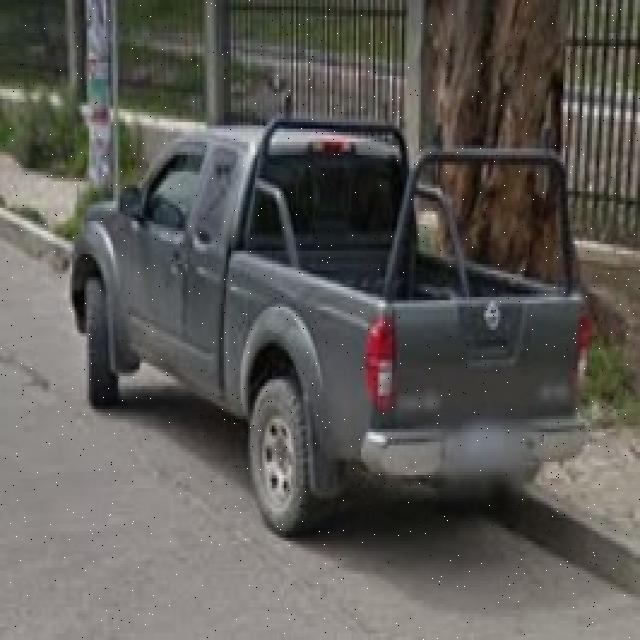cars: (80, 132, 597, 543)
